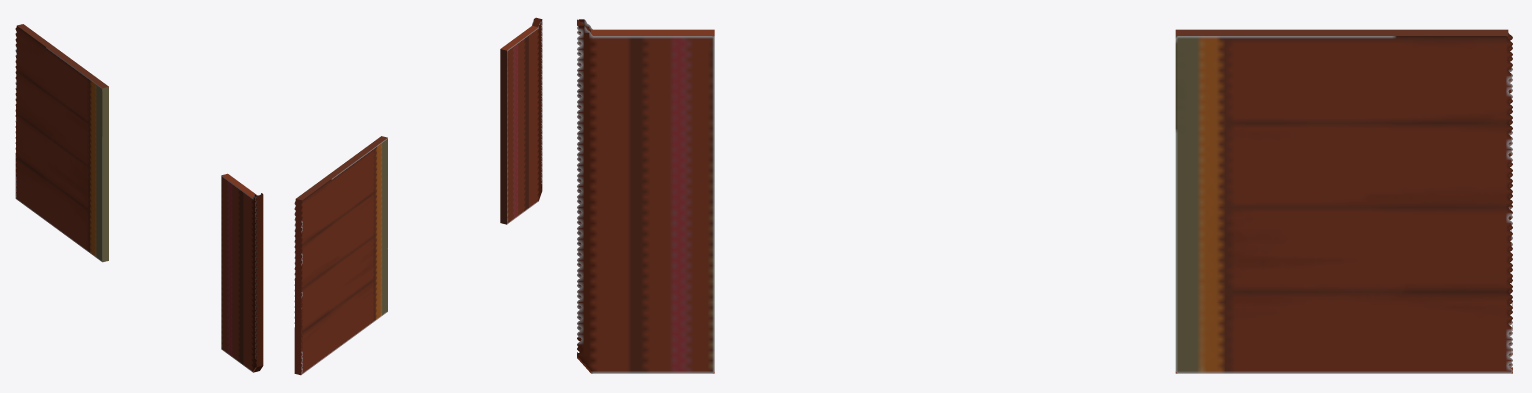
Rendered from pz_native_location_restaurant_spiffos_01_65_frame.obj.
3 views of the same model, side by side, from view 1: azimuth 30°, elevation 25°; view 2: azimuth 150°, elevation 25°; view 3: azimuth 270°, elevation 25° (orthographic). The views are drawn at different scales.
Parts seen in each view (by area): view 1: pz_native_location_restaurant_spiffos_01_65_frame; view 2: pz_native_location_restaurant_spiffos_01_65_frame; view 3: pz_native_location_restaurant_spiffos_01_65_frame.
Boxes of the visible parts, x1=… form: pz_native_location_restaurant_spiffos_01_65_frame: x1=15, y1=24, x2=263, y2=372; pz_native_location_restaurant_spiffos_01_65_frame: x1=294, y1=17, x2=542, y2=375; pz_native_location_restaurant_spiffos_01_65_frame: x1=577, y1=19, x2=1512, y2=373.
Bounding box in the file's own units: 0.04 × 1.06 × 2.54.
1 material, 1 textured.
